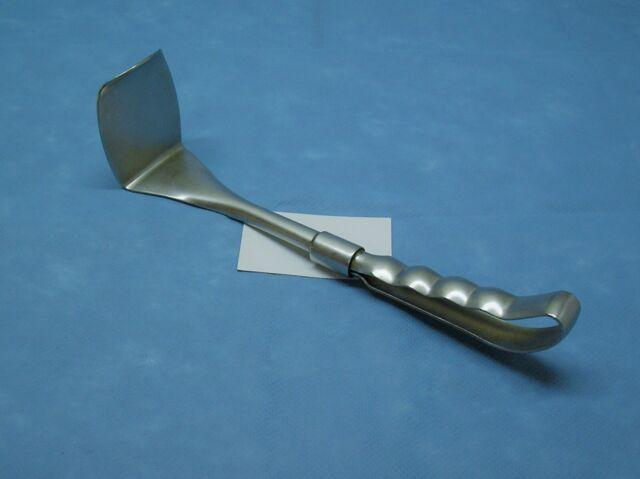Kelly Retractor: (89, 42, 584, 365)
